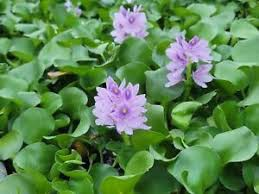water_hyacinth: (0, 0, 259, 193)
